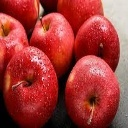apple: (0, 12, 29, 92)
